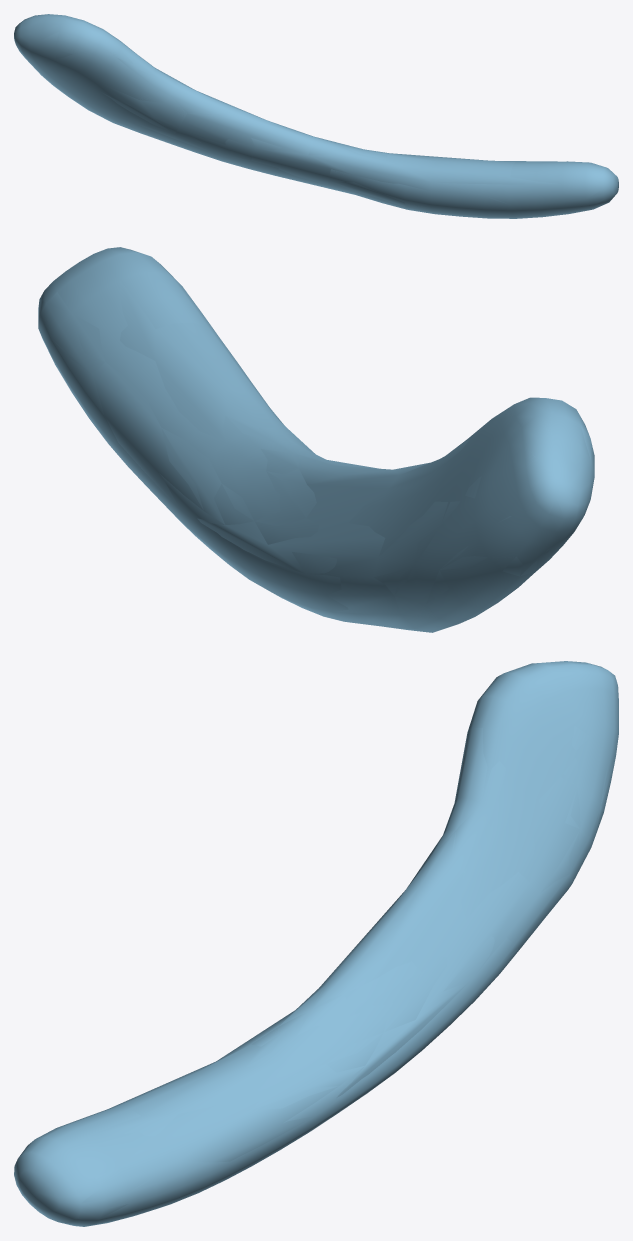
3 renders of one model, top to bottom at view 1: azimuth 30°, elevation 25°; view 2: azimuth 150°, elevation 25°; view 3: azimuth 270°, elevation 25°, orthographic. The views are drawn at different scales.
Visible parts, largest first — view 1: CC R6, CC R6 low; view 2: CC R6, CC R6 low; view 3: CC R6, CC R6 low.
Part boxes in pixels (left/top/right/bottom): CC R6: left=14, top=14, right=618, bottom=218; CC R6 low: left=22, top=16, right=603, bottom=212; CC R6: left=38, top=247, right=594, bottom=632; CC R6 low: left=39, top=251, right=590, bottom=632; CC R6: left=14, top=661, right=618, bottom=1226; CC R6 low: left=27, top=663, right=616, bottom=1226.
Bounding box in the file's own units: 13.38 × 5.5 × 10.3.
